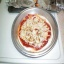pizza: (17, 14, 55, 51)
